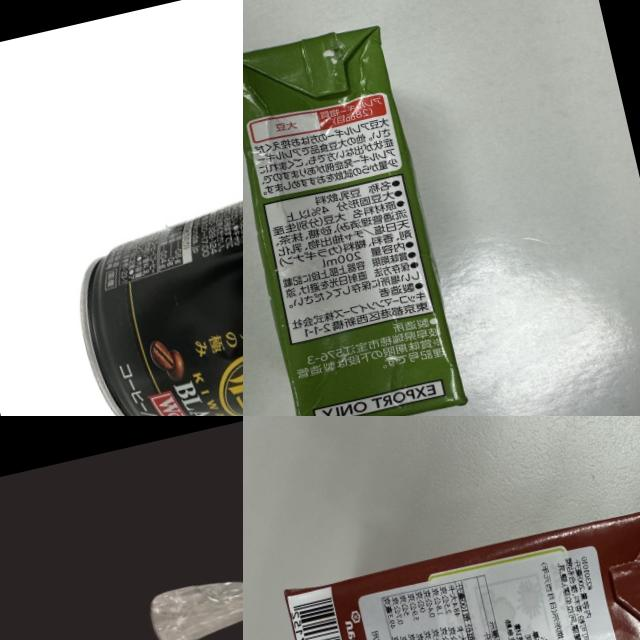Aluminium Foil: (243, 19, 474, 416), (275, 492, 640, 640)
Can: (61, 156, 243, 416)
Transparent Plastic Bottle: (144, 522, 243, 640)
